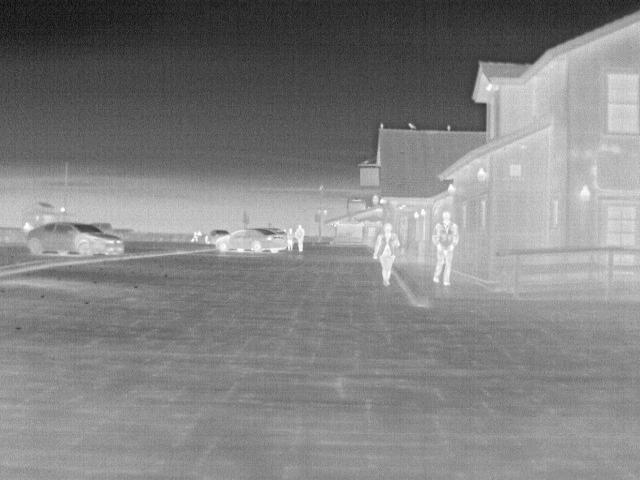car: (25, 223, 126, 256), (212, 228, 288, 255), (85, 222, 133, 242), (203, 228, 231, 244)
person: (431, 209, 461, 286), (371, 223, 399, 287), (293, 222, 307, 254), (284, 226, 297, 251)
